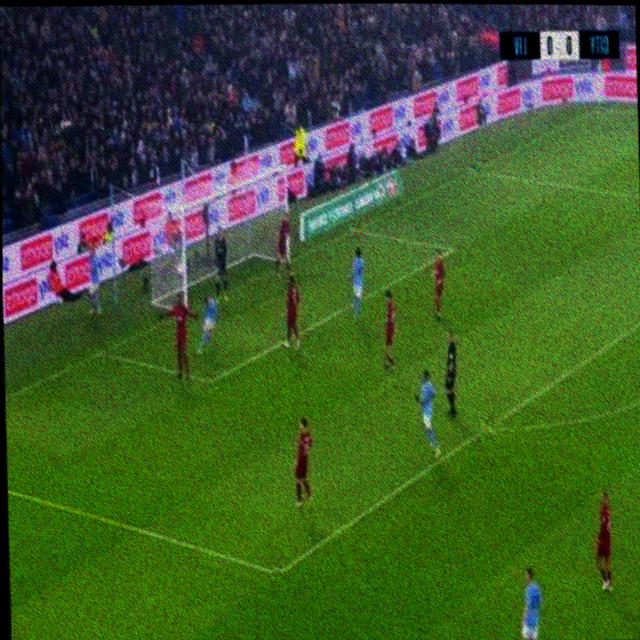bigarea_bottom_inner: (271, 562, 285, 583)
bigarea_top_outter: (465, 159, 481, 183)
bottom_arc_area_intersection: (479, 414, 494, 441)
corner: (595, 103, 604, 116)
smallarea_bottom_inner: (202, 370, 218, 390)
smallarea_bottom_outter: (95, 343, 107, 361)
smallarea_top_inner: (446, 242, 457, 256)
smallarea_top_outter: (348, 221, 362, 237)
